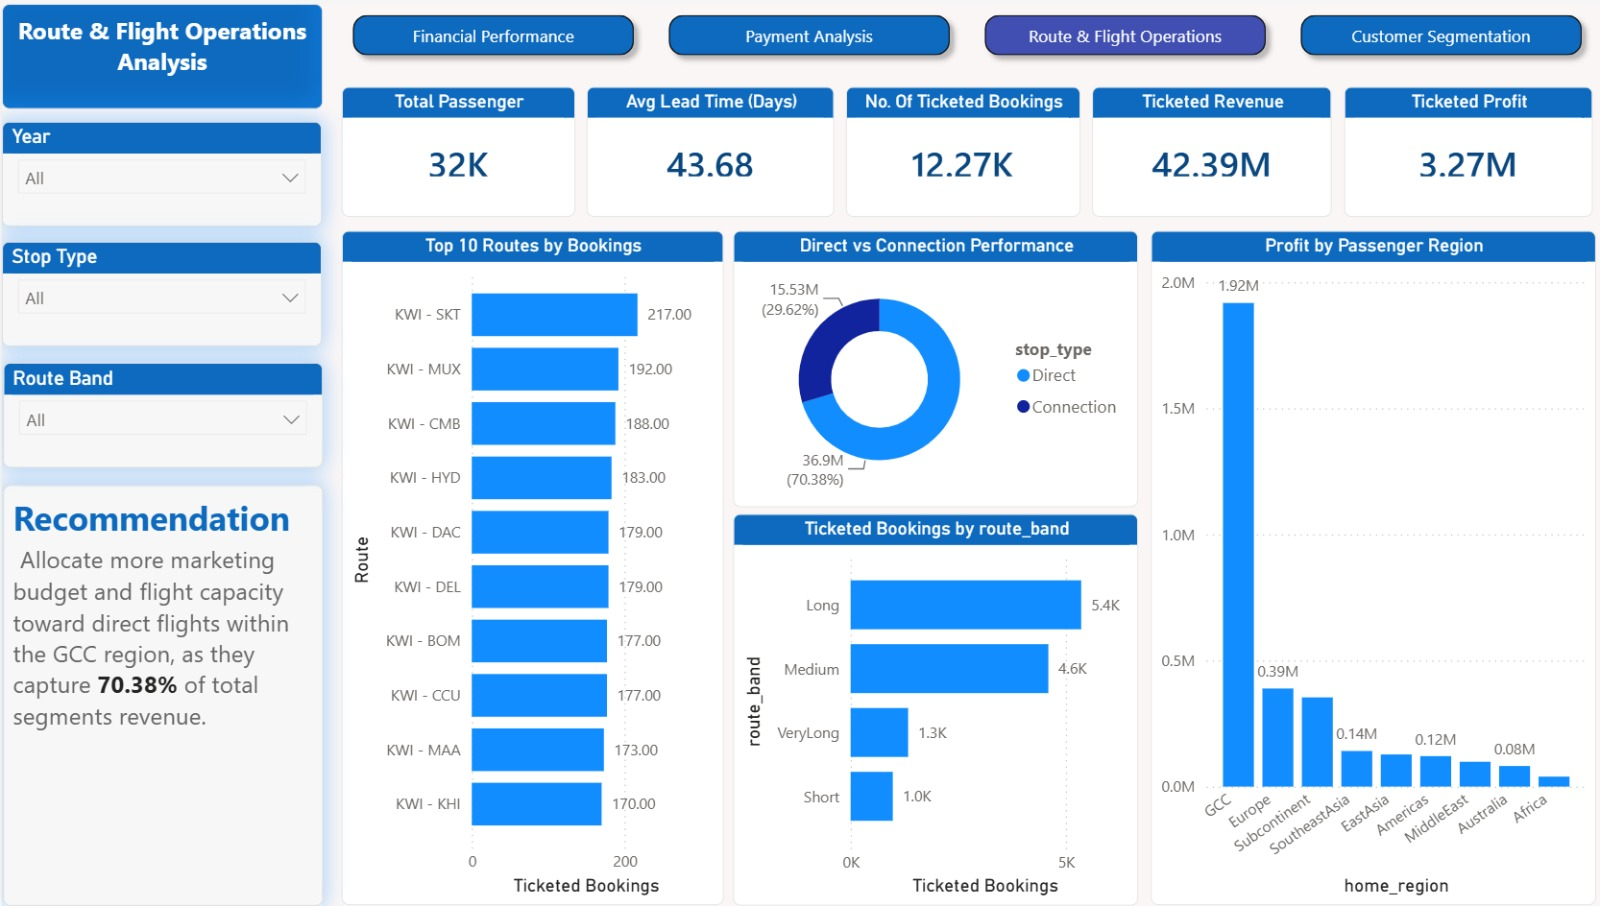

The dashboard page shown, as its layout file describes it:
{"tool":"powerbi","page":{"name":"Route & Flight Operations","canvas":[1280,720],"ordinal":2},"visuals":[{"type":"textbox","box":[0,0,255.7,84.3],"z":0},{"type":"slicer","title":"Year","fields":{"Values":["Dim_Date.Year"]},"box":[0,94.3,255.4,84.2],"z":0,"group":"g2"},{"type":"slicer","title":"Stop Type","fields":{"Values":["segments.stop_type"]},"box":[0,190.3,255.4,84.2],"z":0,"group":"g4"},{"type":"slicer","title":"Route Band","fields":{"Values":["bookings.route_band"]},"box":[1.2,286.9,255.4,84.2],"z":0,"group":"g5"},{"type":"textbox","box":[1.2,383.8,255,336.2],"z":0,"group":"g7"},{"type":"textbox","box":[1.4,396.1,254.3,324.3],"z":0,"group":"g6"},{"type":"clusteredBarChart","fields":{"Category":["bookings.route_band"],"Y":["_All Measures.Ticketed Bookings"]},"box":[583.8,407,323.6,313],"z":0,"group":"g3"},{"type":"group","id":"g1","title":"Group 1","box":[271.4,65.7,998.6,108.6],"z":1000},{"type":"cardVisual","title":"Total Passenger","fields":{"Data":["_All Measures.Total Passengers"]},"box":[271.4,65.8,186,104.2],"z":1000,"group":"g1"},{"type":"group","id":"g2","title":"Group 1","box":[0,94.3,255.4,84.2],"z":1000,"group":"g8"},{"type":"columnChart","title":"Profit by Passenger Region","fields":{"Category":["airlines_lookup.home_region"],"Y":["_All Measures.Profit by Payment"]},"box":[916.3,181.4,355.1,538.6],"z":1000,"group":"g3"},{"type":"cardVisual","title":"Ticketed Profit","fields":{"Data":["_All Measures.Ticketed profit"]},"box":[1071.3,65.7,198.7,104.2],"z":2000,"group":"g1"},{"type":"group","id":"g3","title":"Group 2","box":[271.4,181.4,1000,538.6],"z":2000},{"type":"clusteredBarChart","title":"Top 10 Routes by Bookings","fields":{"Y":["_All Measures.Ticketed Bookings"],"Category":["bookings.Route"]},"box":[271.4,181.4,304.5,538.6],"z":2000,"group":"g3"},{"type":"group","id":"g4","title":"Group 1","box":[0,190.3,255.4,84.2],"z":2000,"group":"g8"},{"type":"cardVisual","title":"Ticketed Revenue","fields":{"Data":["_All Measures.Ticketed Revenue"]},"box":[870.3,65.7,191.6,104.2],"z":3000,"group":"g1"},{"type":"donutChart","title":"Direct vs Connection Performance","fields":{"Category":["segments.stop_type"],"Y":["_All Measures.Revenue by Segment"]},"box":[583.8,181.4,323.6,220.8],"z":3000,"group":"g3"},{"type":"group","id":"g5","title":"Group 1","box":[1.2,286.9,255.9,84.5],"z":3000,"group":"g8"},{"type":"group","id":"g6","title":"Group 4","box":[1.4,396.1,254.3,324.3],"z":3000},{"type":"cardVisual","title":"Avg Lead Time (Days)","fields":{"Data":["_All Measures.Avg Lead Time (Days)"]},"box":[466.9,65.8,197.6,104.2],"z":4000,"group":"g1"},{"type":"group","id":"g7","title":"Group 4","box":[1.2,383.8,255,336.2],"z":4000},{"type":"pageNavigator","box":[271.4,0,1001.4,50],"z":5000},{"type":"cardVisual","title":"No. Of Ticketed Bookings","fields":{"Data":["_All Measures.Ticketed Bookings"]},"box":[674,65.7,186.8,104.2],"z":5000,"group":"g1"},{"type":"group","id":"g8","title":"Group 5","box":[0,94.3,257.1,277.1],"z":7002}]}

Visuals, with their boxes in screenshot pixels (x1, y1, x2, y2), scaled from the page's 1280x720 canvas onto the 1600x906 screenshot:
textbox: 0,0,320,106
"Year" slicer: 0,119,319,225
"Stop Type" slicer: 0,239,319,345
"Route Band" slicer: 2,361,321,467
textbox: 2,483,320,905
textbox: 2,498,320,905
clusteredBarChart - bookings.route_band x _All Measures.Ticketed Bookings: 730,512,1134,905
"Group 1" group: 339,83,1588,219
"Total Passenger" cardVisual: 339,83,572,214
"Group 1" group: 0,119,319,225
"Profit by Passenger Region" columnChart: 1145,228,1589,905
"Ticketed Profit" cardVisual: 1339,83,1588,214
"Group 2" group: 339,228,1589,905
"Top 10 Routes by Bookings" clusteredBarChart: 339,228,720,905
"Group 1" group: 0,239,319,345
"Ticketed Revenue" cardVisual: 1088,83,1327,214
"Direct vs Connection Performance" donutChart: 730,228,1134,506
"Group 1" group: 2,361,321,467
"Group 4" group: 2,498,320,905
"Avg Lead Time (Days)" cardVisual: 584,83,831,214
"Group 4" group: 2,483,320,905
pageNavigator: 339,0,1591,63
"No. Of Ticketed Bookings" cardVisual: 842,83,1076,214
"Group 5" group: 0,119,321,467
